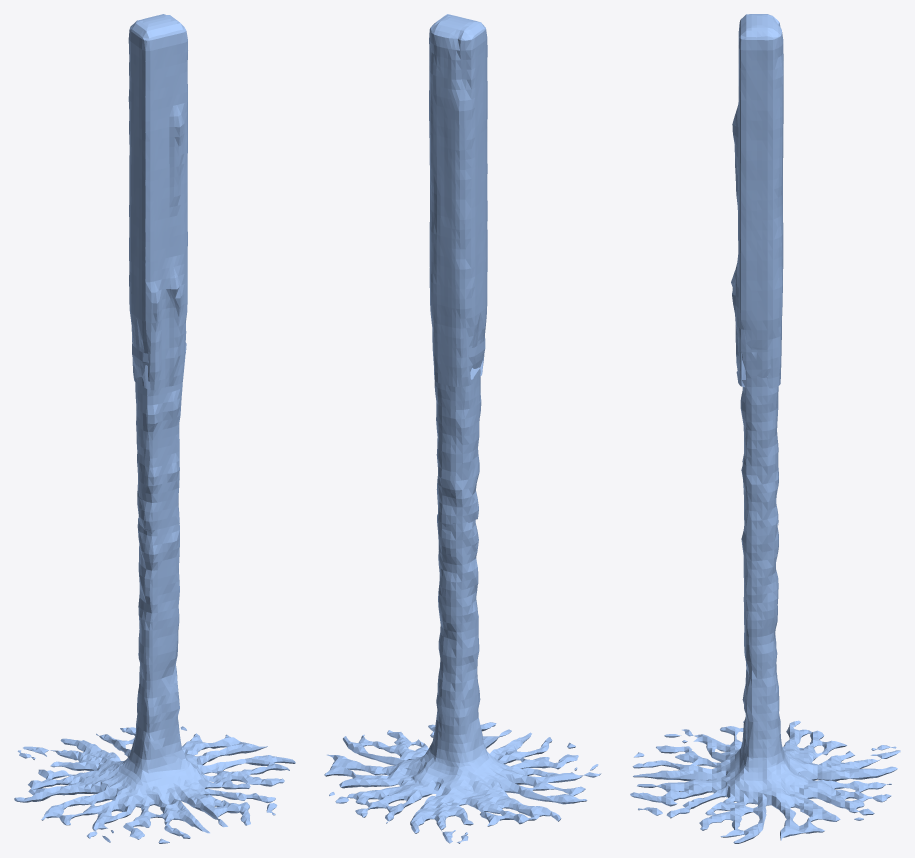
File: water_.fbx
3 views of the same model, side by side, from view 1: azimuth 30°, elevation 25°; view 2: azimuth 150°, elevation 25°; view 3: azimuth 270°, elevation 25° (orthographic).
Parts seen in each view (by area): view 1: Cube.002; view 2: Cube.002; view 3: Cube.002.
Boxes of the visible parts, bbox=[...] form: Cube.002: bbox=[14, 14, 295, 843]; Cube.002: bbox=[324, 14, 601, 843]; Cube.002: bbox=[630, 14, 900, 843].
Bounding box in the file's own units: 24.69 × 72.77 × 23.24.
